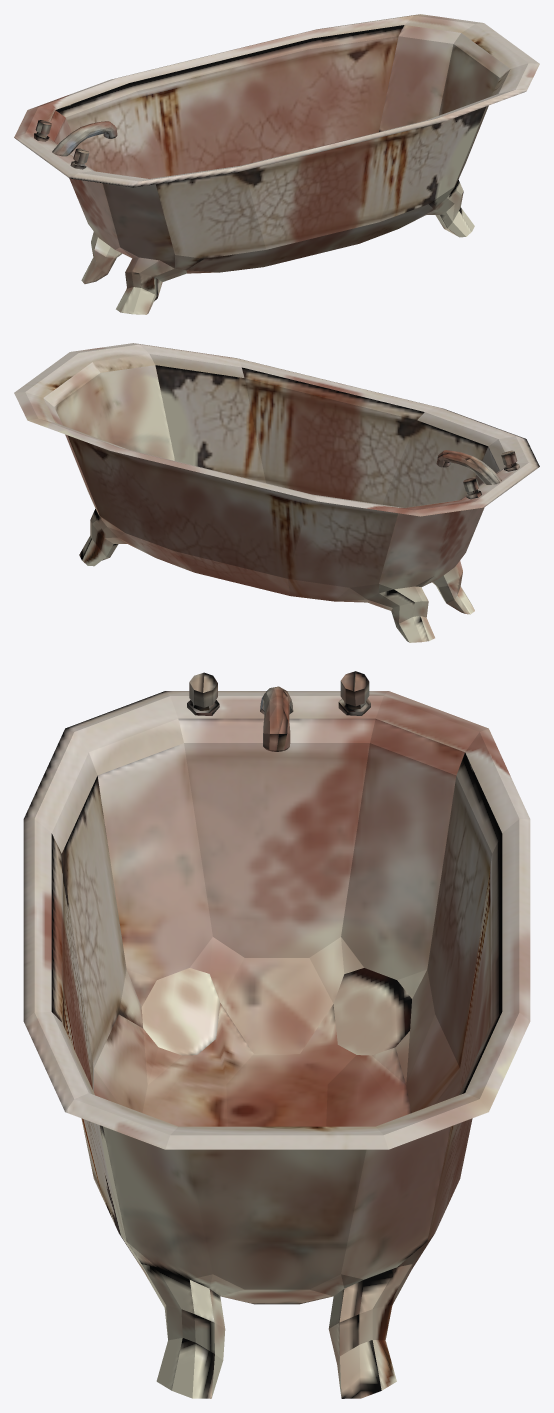
Rendered from BathTub Blood .fbx.
3 views of the same model, one above another, from view 1: azimuth 30°, elevation 25°; view 2: azimuth 150°, elevation 25°; view 3: azimuth 270°, elevation 25° (orthographic). The views are drawn at different scales.
Parts seen in each view (by area): view 1: Cube.001; view 2: Cube.001; view 3: Cube.001.
Boxes of the visible parts, box(x1,y1,x2,y2) form: Cube.001: box(14, 14, 539, 314); Cube.001: box(14, 343, 539, 642); Cube.001: box(23, 671, 530, 1398).
Size of the model in its own units: 174 by 61.87 by 81.17.
